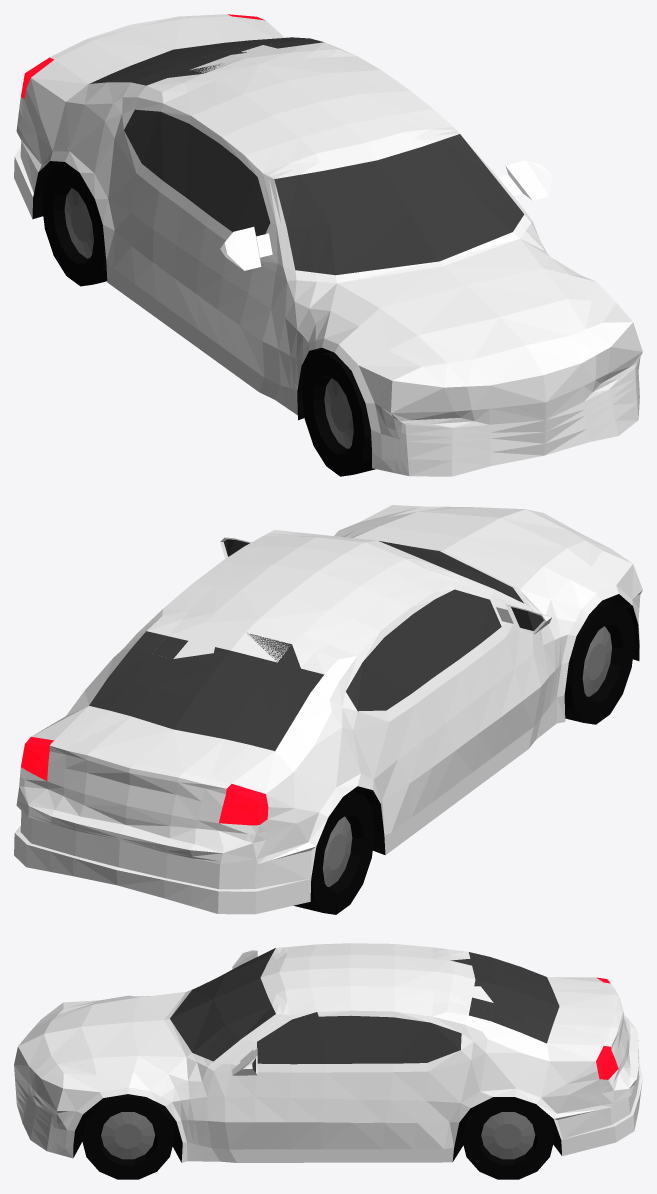
The model's file is Car_fractured (1).fbx.
3 renders of one model, top to bottom at view 1: azimuth 30°, elevation 25°; view 2: azimuth 150°, elevation 25°; view 3: azimuth 270°, elevation 25°, orthographic. The views are drawn at different scales.
Parts seen in each view (by area): view 1: Plane.002, Plane.002_cell.007, Plane.002_cell.005, Plane.002_cell.004, Plane.002_cell.012, Carju_0.031, Plane.002_cell.015, Carju_0.032, Plane.002_cell.013, Plane.002_cell.016, Plane.002_cell.002, Plane.002_cell.019 (+6 smaller); view 2: Plane.002, Plane.002_cell.019, Plane.002_cell.007, Plane.002_cell.020, Plane.002_cell.005, Plane.002_cell.015, Plane.002_cell.008, Carju_0.031, Plane.002_cell.011, Carju_0.032, Plane.002_cell.024, Plane.002_cell.009 (+7 smaller); view 3: Plane.002, Plane.002_cell.016, Plane.002_cell.021, Plane.002_cell.020, Plane.002_cell.014, Plane.002_cell.007, Carju_0.029, Carju_0.030, Plane.002_cell.001, Plane.002_cell.013, Plane.002_cell.019, Plane.002_cell.024 (+3 smaller).
Part boxes in pixels (left/top/right/bottom): Plane.002: left=14, top=19, right=642, bottom=476; Plane.002_cell.007: left=206, top=64, right=421, bottom=240; Plane.002_cell.005: left=142, top=247, right=304, bottom=420; Plane.002_cell.004: left=220, top=192, right=445, bottom=397; Plane.002_cell.012: left=362, top=356, right=535, bottom=469; Carju_0.031: left=301, top=351, right=375, bottom=476; Plane.002_cell.015: left=68, top=78, right=167, bottom=255; Carju_0.032: left=41, top=163, right=107, bottom=286; Plane.002_cell.013: left=530, top=340, right=642, bottom=452; Plane.002_cell.016: left=419, top=136, right=546, bottom=256; Plane.002_cell.002: left=403, top=390, right=553, bottom=476; Plane.002_cell.019: left=117, top=50, right=312, bottom=129; Plane.002: left=17, top=505, right=642, bottom=914; Plane.002_cell.019: left=203, top=603, right=380, bottom=742; Plane.002_cell.007: left=215, top=536, right=483, bottom=670; Plane.002_cell.020: left=63, top=591, right=226, bottom=734; Plane.002_cell.005: left=417, top=662, right=565, bottom=831; Plane.002_cell.015: left=263, top=687, right=433, bottom=821; Plane.002_cell.008: left=95, top=731, right=183, bottom=891; Carju_0.031: left=564, top=599, right=634, bottom=724; Plane.002_cell.011: left=180, top=718, right=285, bottom=840; Carju_0.032: left=293, top=791, right=374, bottom=914; Plane.002_cell.024: left=19, top=723, right=155, bottom=799; Plane.002_cell.009: left=273, top=760, right=342, bottom=902; Plane.002: left=14, top=943, right=642, bottom=1162; Plane.002_cell.016: left=132, top=999, right=378, bottom=1162; Plane.002_cell.021: left=272, top=997, right=459, bottom=1162; Plane.002_cell.020: left=405, top=985, right=575, bottom=1063; Plane.002_cell.014: left=424, top=1049, right=588, bottom=1122; Plane.002_cell.007: left=229, top=945, right=417, bottom=1004; Carju_0.029: left=81, top=1094, right=174, bottom=1179; Carju_0.030: left=461, top=1097, right=554, bottom=1179; Plane.002_cell.001: left=548, top=1087, right=635, bottom=1156; Plane.002_cell.013: left=14, top=1064, right=129, bottom=1158; Plane.002_cell.019: left=399, top=945, right=543, bottom=993; Plane.002_cell.024: left=571, top=1010, right=624, bottom=1088.
Size of the model in its own units: 267 by 176 by 609.
